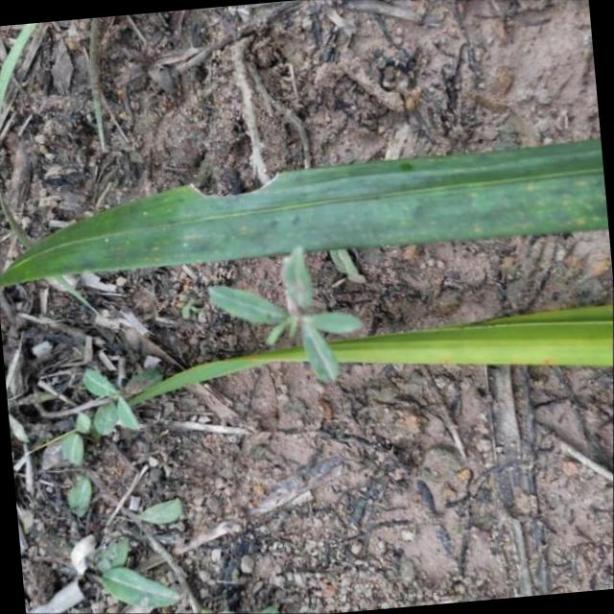nitrogen: (123, 313, 614, 373)
